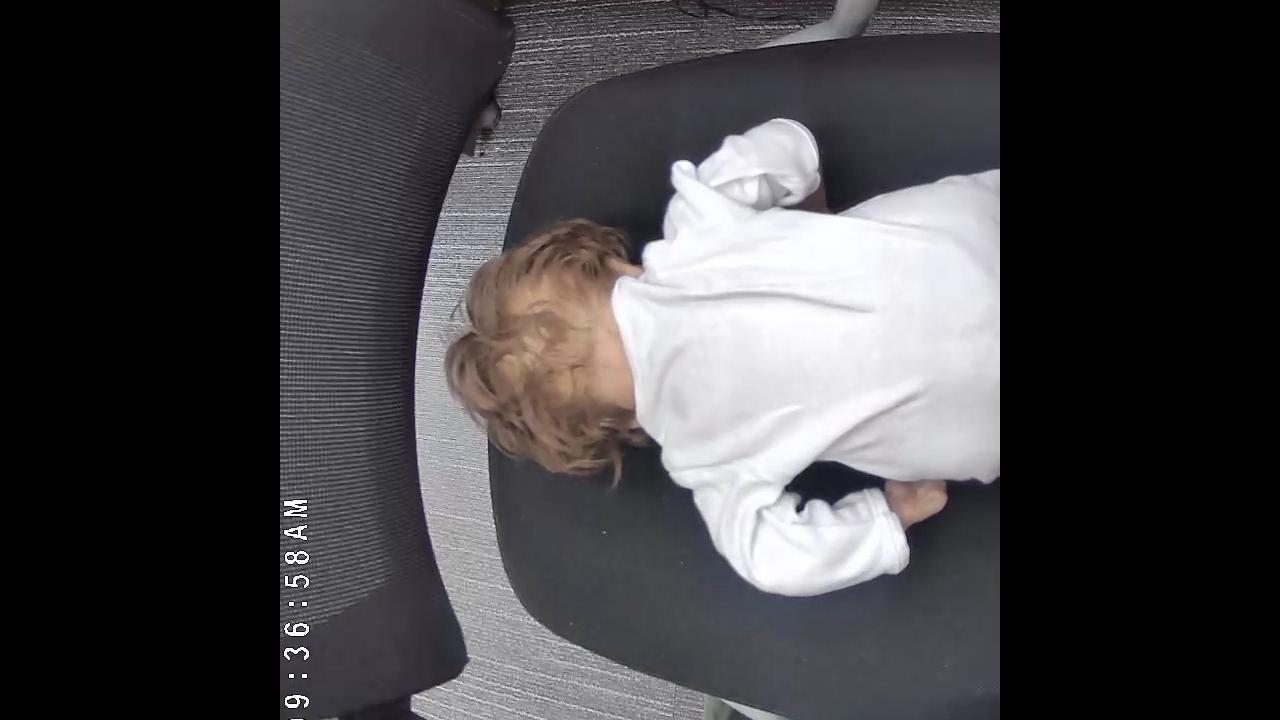hand: (886, 477, 948, 527)
